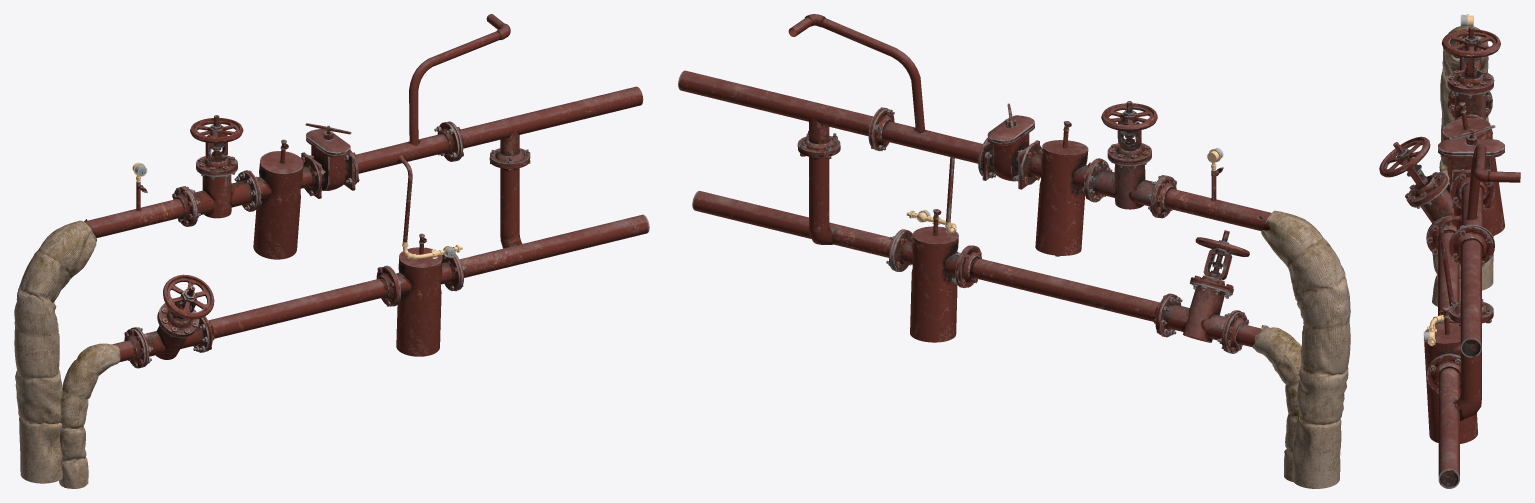
File: rusty_water_pipes.glb
3 views of the same model, side by side, from view 1: azimuth 30°, elevation 25°; view 2: azimuth 150°, elevation 25°; view 3: azimuth 270°, elevation 25° (orthographic). The views are drawn at different scales.
Visible parts, largest first — view 1: Fabric1_LP, pipe_1_HP.001, pipe_X3_HP.001, pipe_X3_HP.002, pipe_6_HP.001, pipe_2_HP.001, Fabric2_LP, Cap_HP.003, pipe_3_HP.001, Cap_HP.002, pipe_4_HP.001, pipe_X5_HP.001 (+1 smaller); view 2: Fabric1_LP, pipe_X3_HP.001, pipe_X3_HP.002, pipe_1_HP.001, pipe_6_HP.001, pipe_2_HP.001, Cap_HP.003, pipe_3_HP.001, Cap_HP.002, pipe_4_HP.001, Fabric2_LP, pipe_X5_HP.001 (+1 smaller); view 3: pipe_1_HP.001, pipe_2_HP.001, Cap_HP.003, pipe_6_HP.001, Cap_HP.002, pipe_X3_HP.002, pipe_X3_HP.001, pipe_X5_HP.001, Fabric1_LP, pipe_3_HP.001, Fabric2_LP, Bolt.006 (+3 smaller).
Part boxes in pixels (bbox=[...]): Fabric1_LP: bbox=[14, 219, 96, 483]; pipe_1_HP.001: bbox=[454, 157, 649, 290]; pipe_X3_HP.001: bbox=[242, 139, 321, 259]; pipe_X3_HP.002: bbox=[385, 233, 461, 356]; pipe_6_HP.001: bbox=[350, 14, 510, 242]; pipe_2_HP.001: bbox=[448, 86, 643, 166]; Fabric2_LP: bbox=[59, 343, 120, 488]; Cap_HP.003: bbox=[181, 115, 258, 226]; pipe_3_HP.001: bbox=[203, 266, 398, 351]; Cap_HP.002: bbox=[131, 274, 214, 367]; pipe_4_HP.001: bbox=[48, 181, 195, 238]; pipe_X5_HP.001: bbox=[301, 123, 355, 198]; Fabric1_LP: bbox=[1259, 210, 1350, 488]; pipe_X3_HP.001: bbox=[1019, 121, 1103, 256]; pipe_X3_HP.002: bbox=[891, 209, 970, 342]; pipe_1_HP.001: bbox=[692, 145, 904, 270]; pipe_6_HP.001: bbox=[788, 14, 987, 222]; pipe_2_HP.001: bbox=[678, 70, 888, 155]; Cap_HP.003: bbox=[1086, 101, 1168, 217]; pipe_3_HP.001: bbox=[958, 245, 1174, 334]; Cap_HP.002: bbox=[1157, 230, 1249, 352]; pipe_4_HP.001: bbox=[1152, 167, 1307, 325]; Fabric2_LP: bbox=[1252, 325, 1301, 481]; pipe_X5_HP.001: bbox=[982, 103, 1039, 189]; pipe_1_HP.001: bbox=[1426, 312, 1493, 488]; pipe_2_HP.001: bbox=[1449, 226, 1493, 357]; Cap_HP.003: bbox=[1441, 26, 1500, 133]; pipe_6_HP.001: bbox=[1439, 143, 1520, 306]; Cap_HP.002: bbox=[1379, 136, 1454, 227]; pipe_X3_HP.002: bbox=[1424, 306, 1477, 443]; pipe_X3_HP.001: bbox=[1442, 102, 1504, 235]; pipe_X5_HP.001: bbox=[1438, 125, 1504, 208]; Fabric1_LP: bbox=[1439, 26, 1493, 290]; pipe_3_HP.001: bbox=[1426, 217, 1459, 324]; Fabric2_LP: bbox=[1432, 168, 1460, 306]; Bolt.006: bbox=[1448, 70, 1491, 98].
Bounding box in the file's own units: 4.92 × 2.54 × 0.8667.
4 materials, 3 textured.
